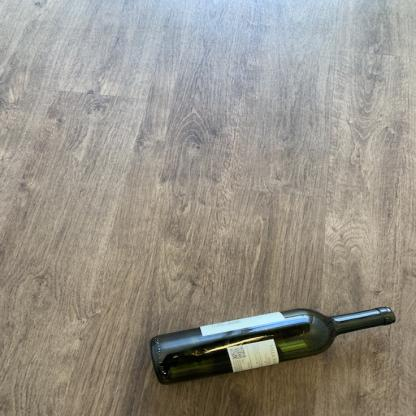trash: (148, 305, 398, 387)
